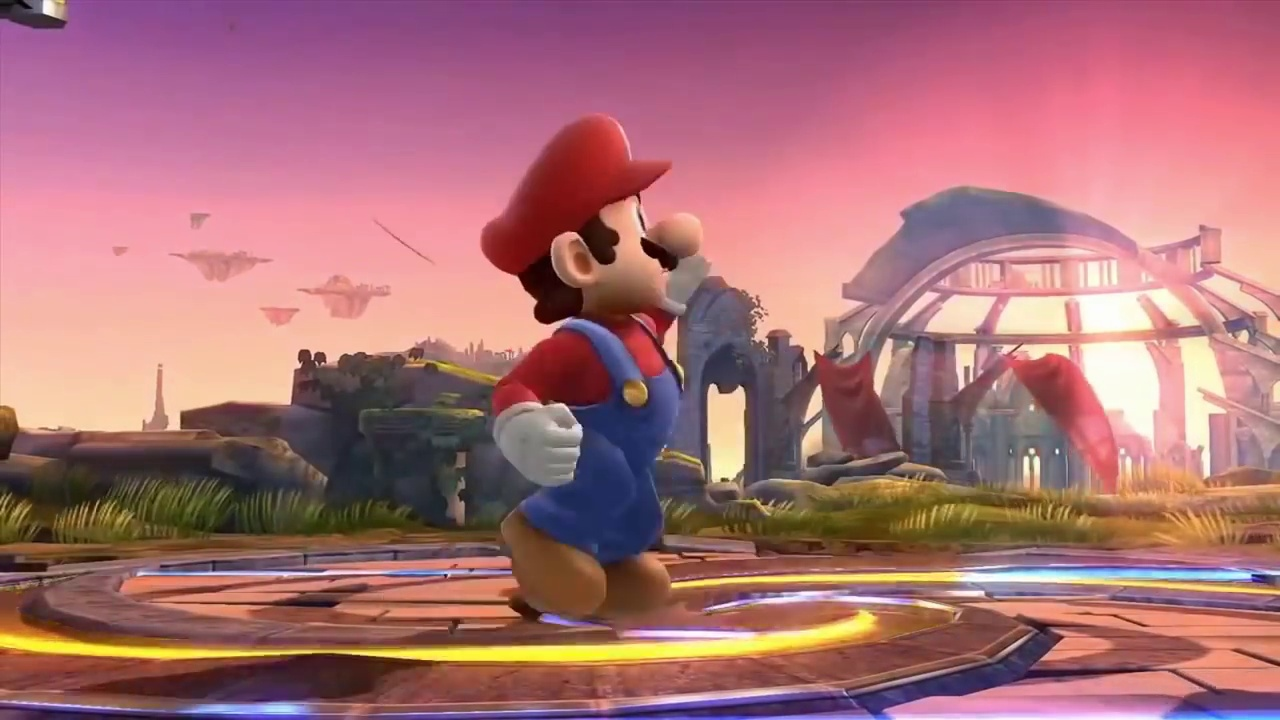Mario: (482, 113, 702, 614)
